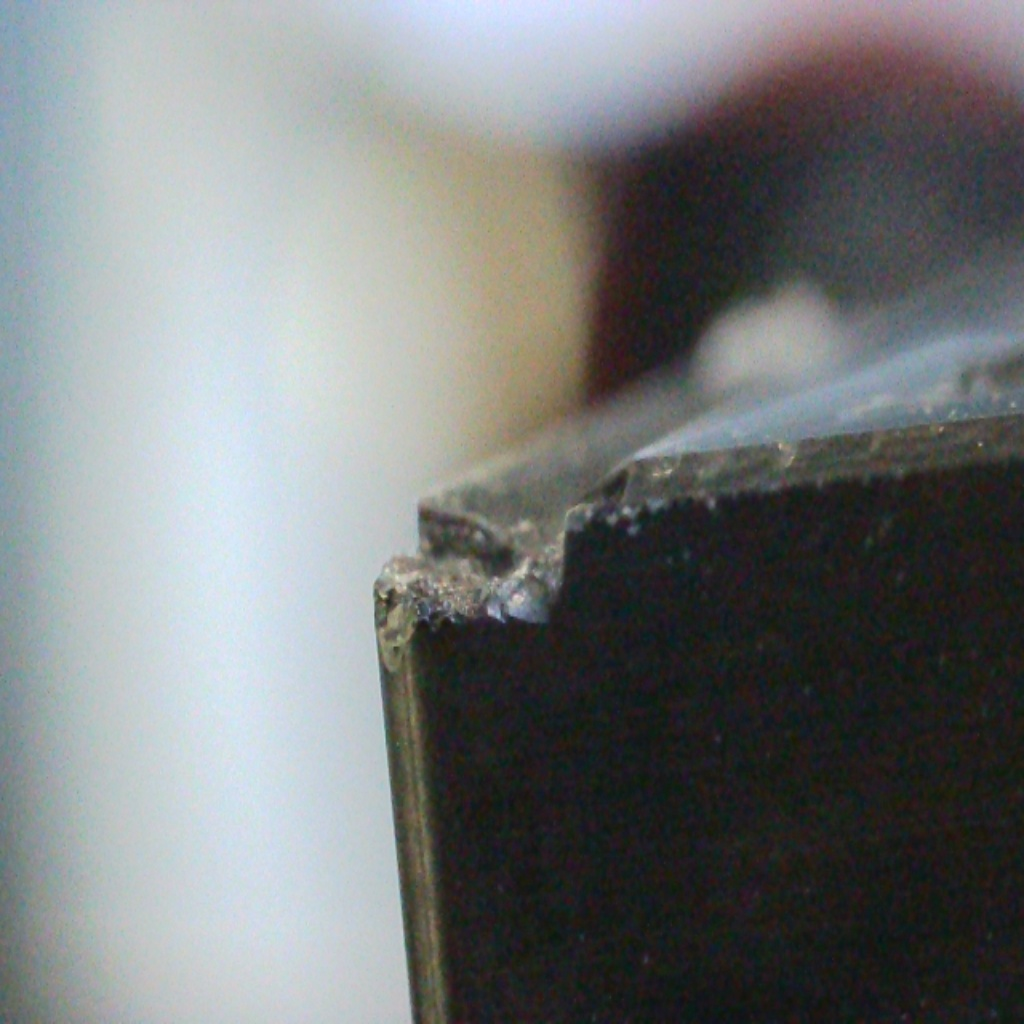flank_wear: (373, 576, 573, 672)
